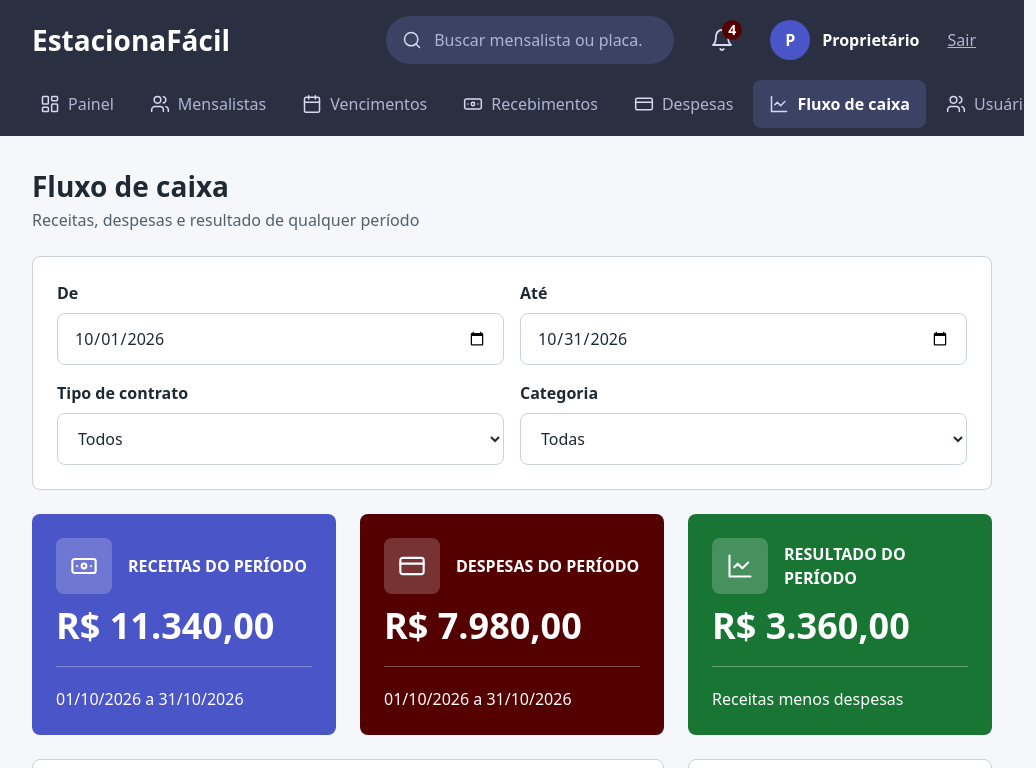
Test: aba Fluxo de caixa › escolher "Moto" oculta o resultado e explica o motivo
Expected: the text "Receitas do período" is shown, [128,554,307,578]
Select "Moto" in the dropdown labelled "Categoria" at (744, 439), box [520,413,967,465]
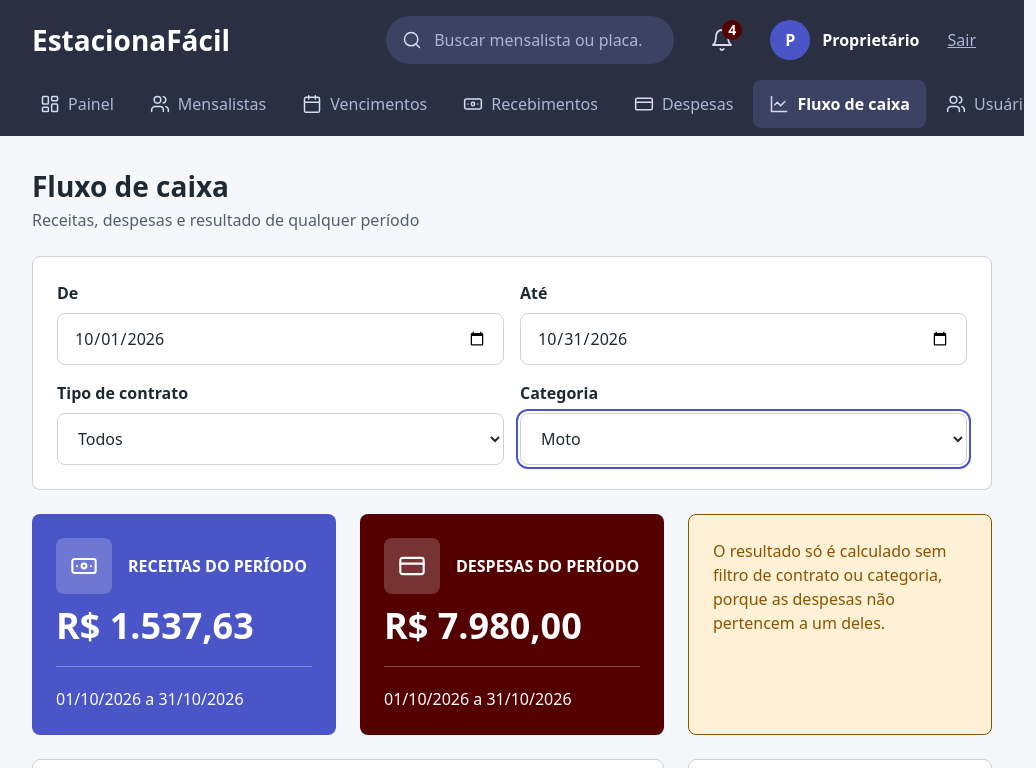
Expected: the text "O resultado só é calculado sem filtro de contrato ou categoria, porque as despesas não pertencem a um deles." is shown, [713,540,947,634]
Expected: the text "Resultado do período" is gone
Expected: the text "R$ 11.340,00" is gone
Select "Todas" in the dropdown labelled "Categoria" at (744, 439), box [520,413,967,465]
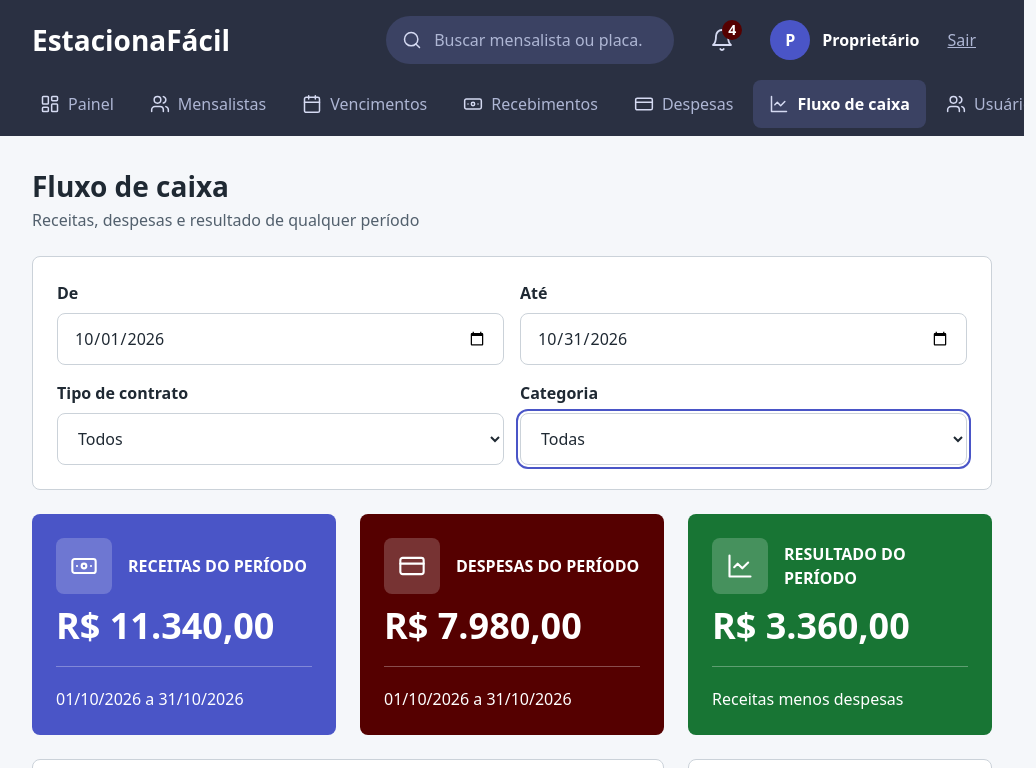
Expected: the text "Resultado do período" is shown, [784,543,906,589]
Expected: the text "O resultado só é calculado sem filtro de contrato ou categoria, porque as despesas não pertencem a um deles." is gone
